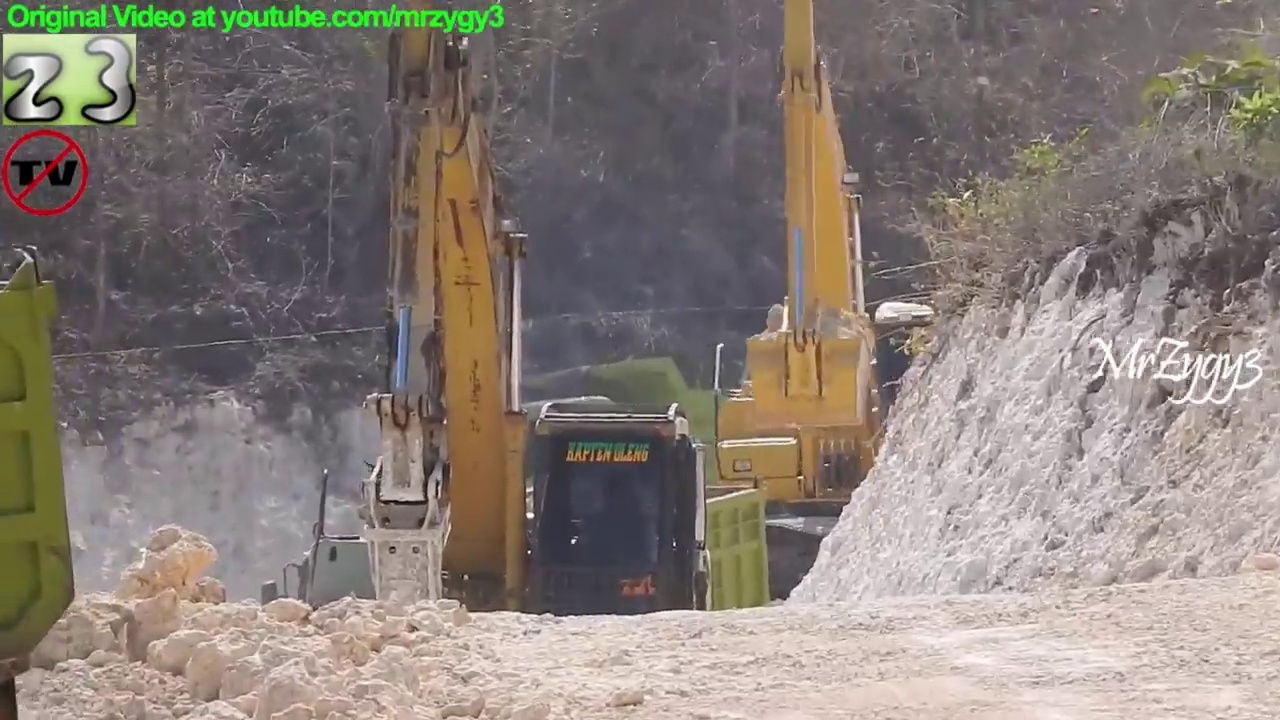excavator: (257, 1, 720, 710), (643, 1, 989, 645)
truck: (461, 430, 779, 703), (544, 354, 917, 554), (1, 244, 86, 719)
